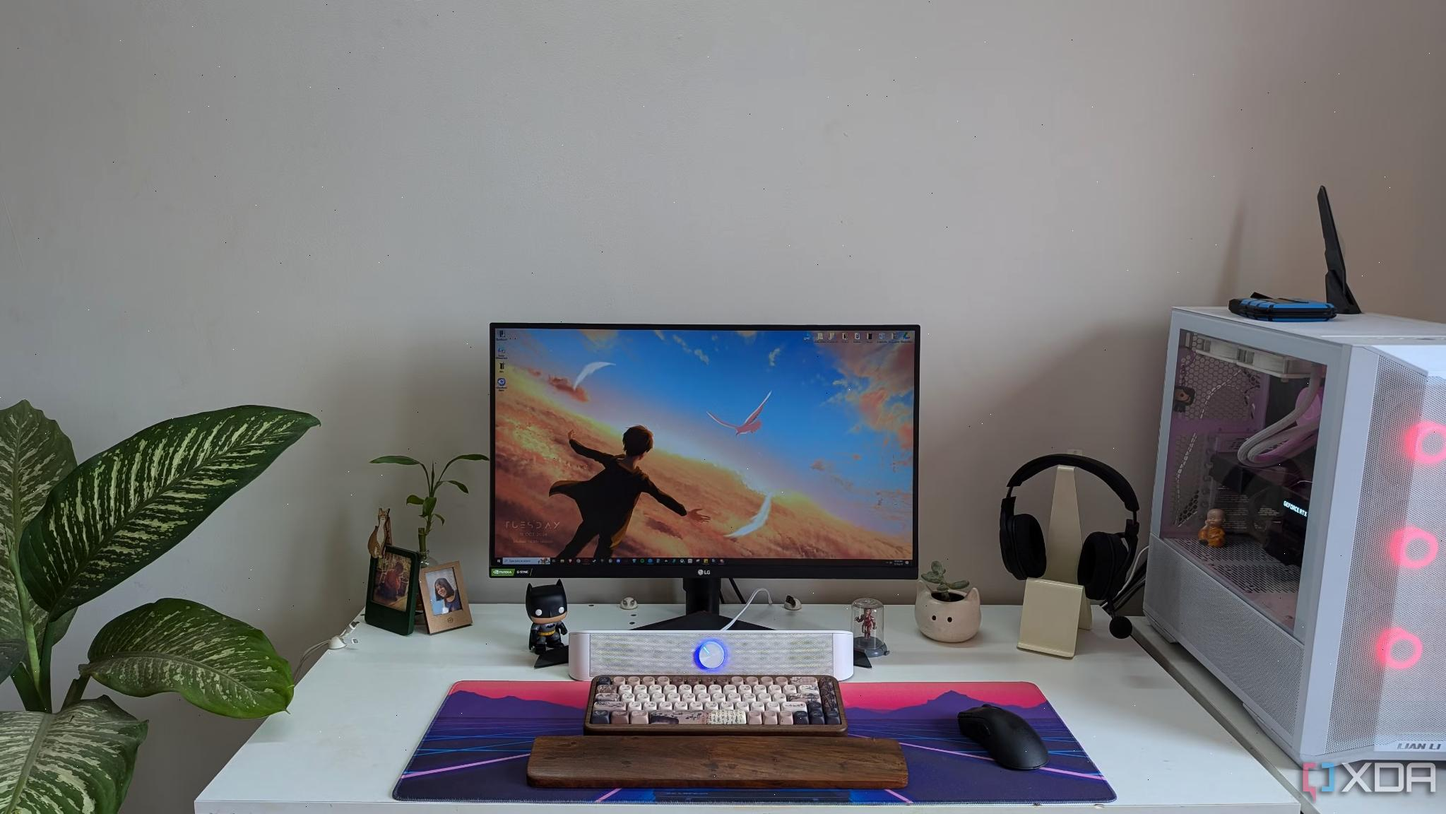head_phone: (989, 434, 1165, 654)
keyboard: (579, 664, 859, 750)
monitor: (481, 309, 932, 591)
mouse: (947, 694, 1064, 778)
pc: (1147, 289, 1446, 781)
speaker: (560, 615, 865, 694)
